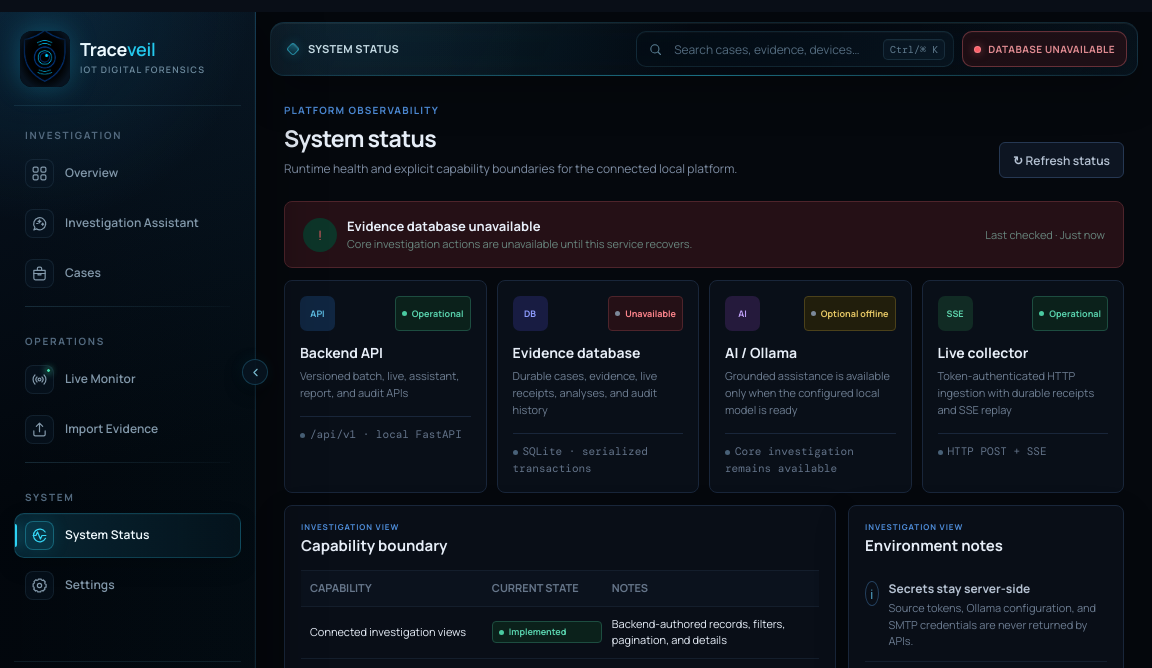
Test: shared system health › refreshes shared status without reloading the browser
This screenshot has width=1152, height=668.
expect the button with aria-label "Platform health: database unavailable" is shown: met, box left=962, top=31, right=1127, bottom=67
Click the button "↻ Refresh status": click(1062, 160) left=999, top=142, right=1124, bottom=178
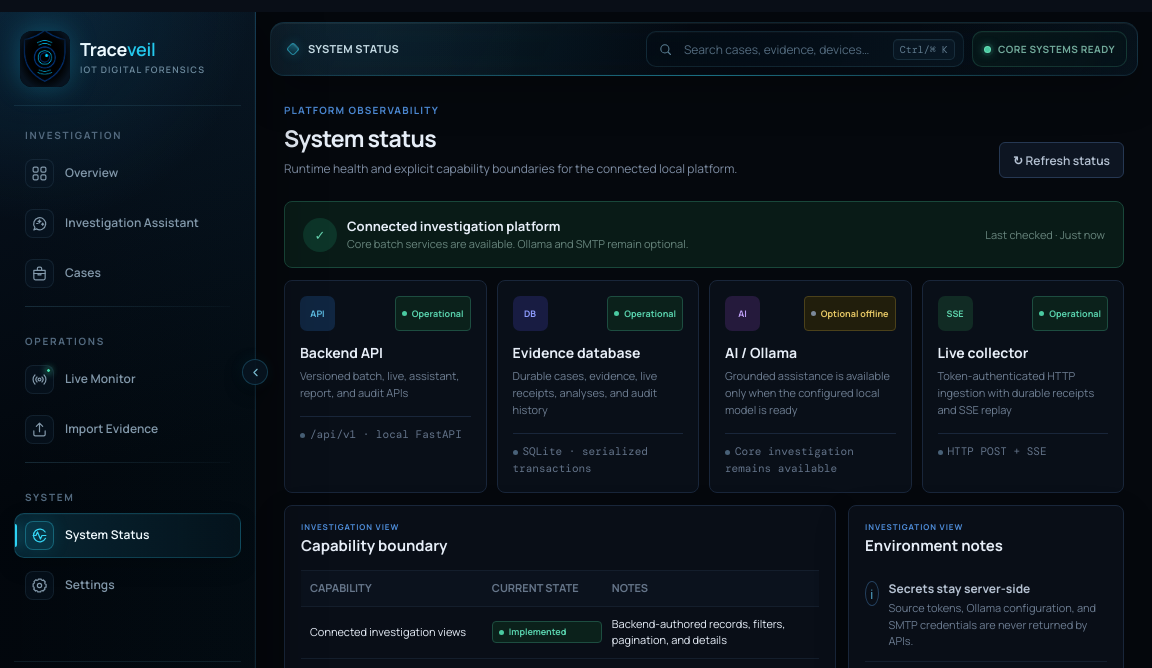
expect the button with aria-label "Platform health: operational" is shown: met, box left=972, top=31, right=1127, bottom=67
